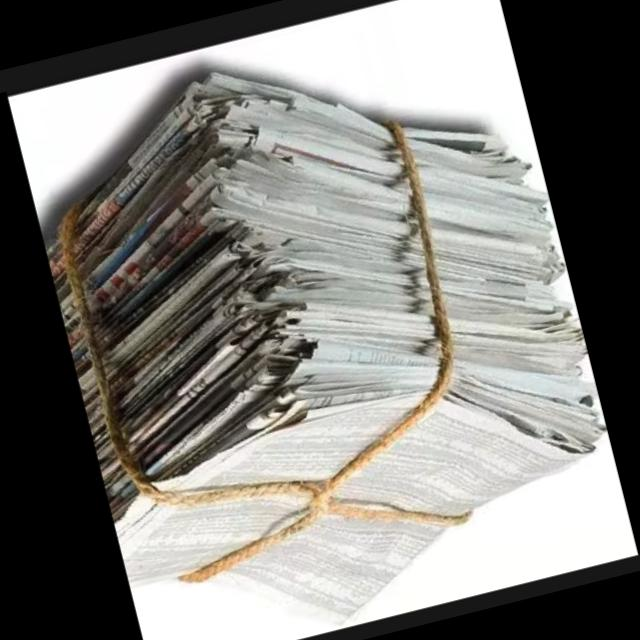Koran: (12, 0, 637, 640)
